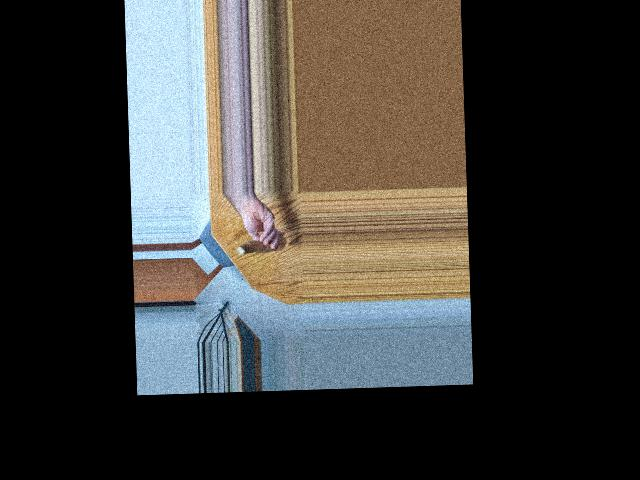sweet_potato: (232, 237, 286, 254)
